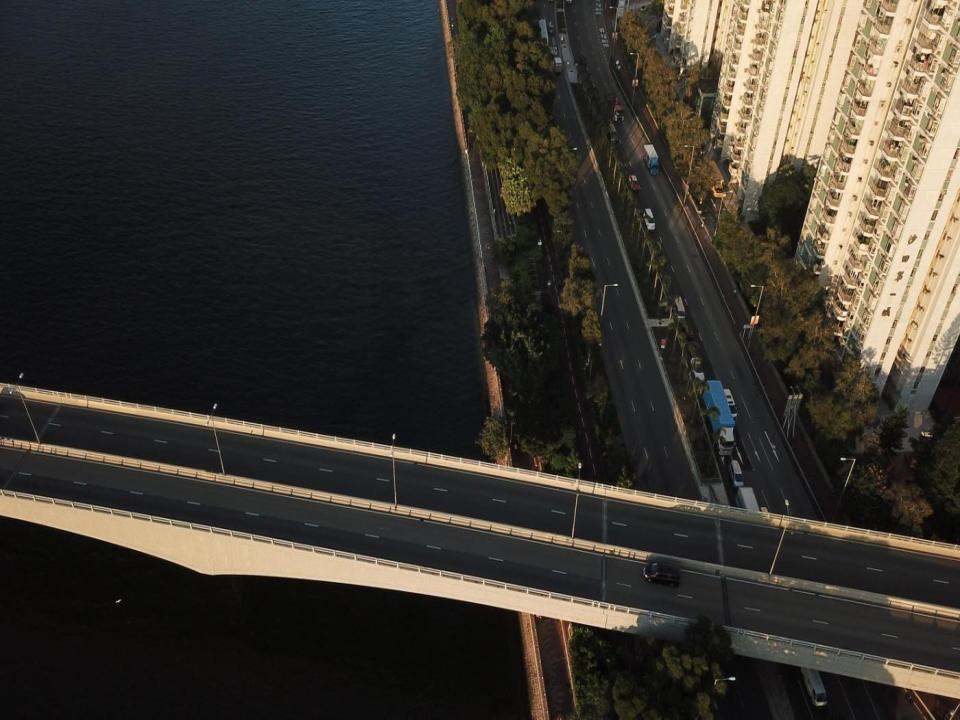bus: (538, 18, 548, 45)
car: (690, 357, 705, 383), (628, 174, 640, 191), (547, 24, 555, 34)
truck: (702, 380, 735, 455), (734, 487, 761, 529), (706, 159, 724, 197), (604, 92, 625, 122), (642, 144, 660, 174)
van: (800, 660, 830, 714), (643, 562, 680, 587), (720, 388, 737, 424), (728, 461, 744, 487), (643, 207, 656, 231), (675, 296, 686, 324), (683, 323, 695, 348), (606, 122, 618, 146), (761, 507, 772, 524), (553, 56, 562, 72)
